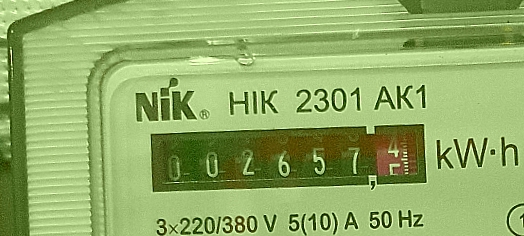0: (165, 151, 183, 181), (203, 147, 220, 178)
2: (239, 146, 257, 176)
4: (385, 131, 401, 157)
5: (310, 144, 328, 175), (387, 160, 403, 175)
6: (275, 147, 291, 177)
7: (346, 143, 363, 175)
screen: (140, 106, 439, 209)
